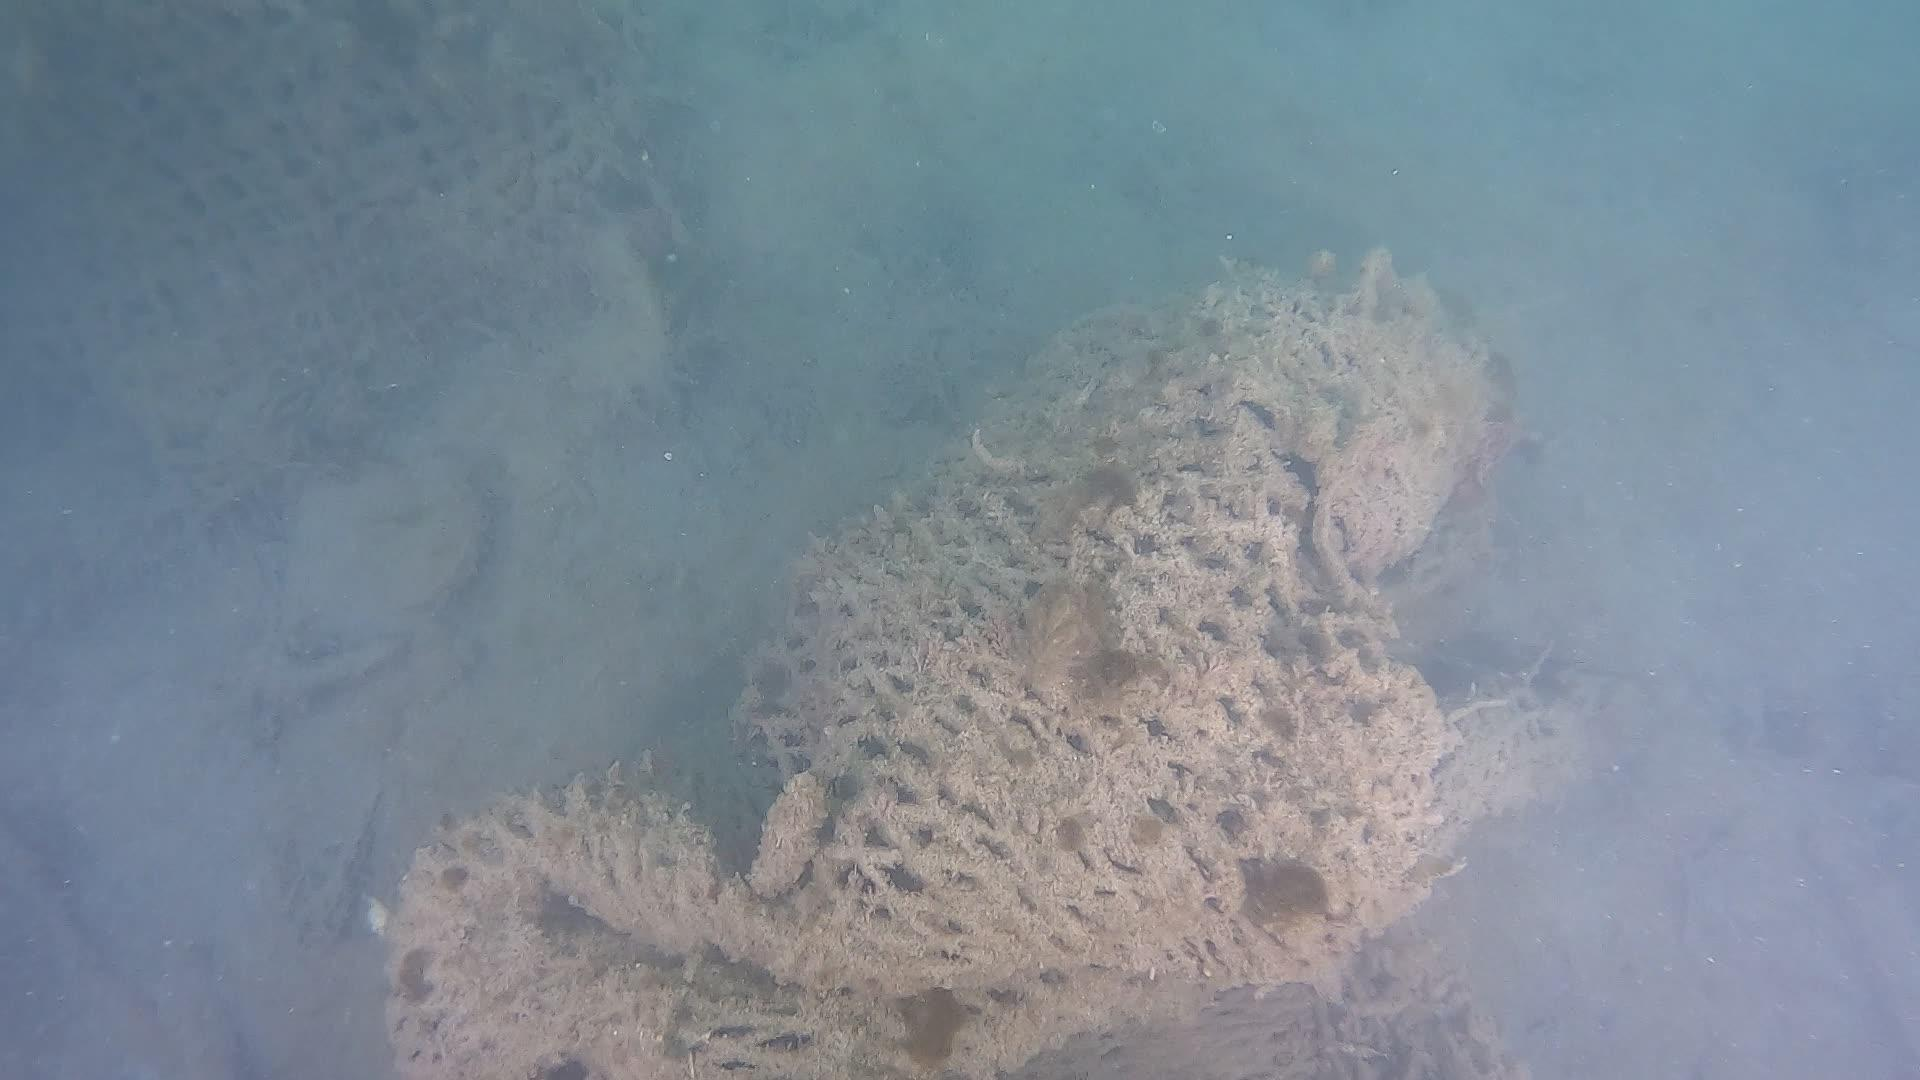fish net: (373, 236, 1596, 1079), (0, 1, 688, 545)
